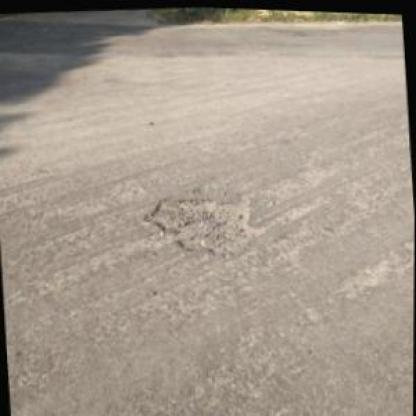pothole: (141, 186, 268, 262)
